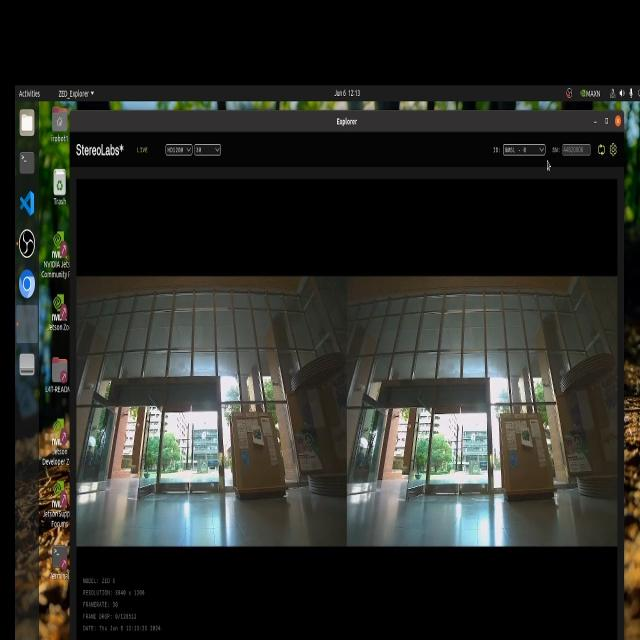green: (522, 427, 536, 448), (250, 423, 264, 442)
